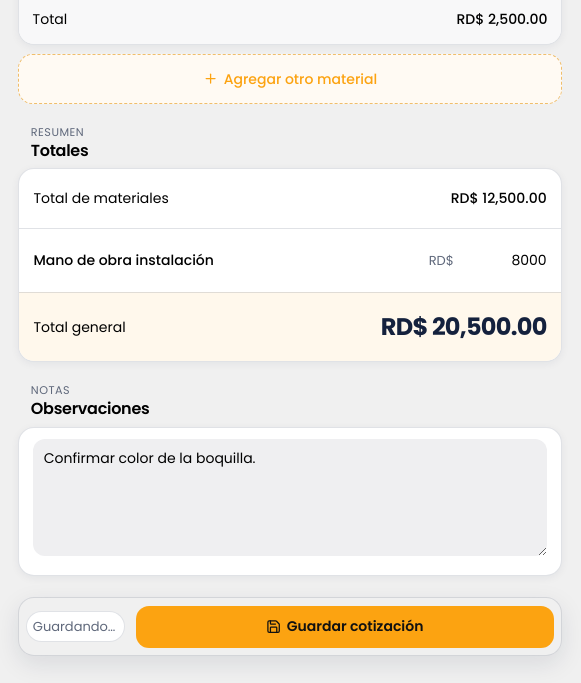
Test: QuotationEditor › preserves a remotely updated phone when the user only edits quotation observations
(page scrolled)
Replace the text in the text box named "Observaciones" with "Solo cambio de observaciones". click: (290, 498)
box: [33,439,547,556]
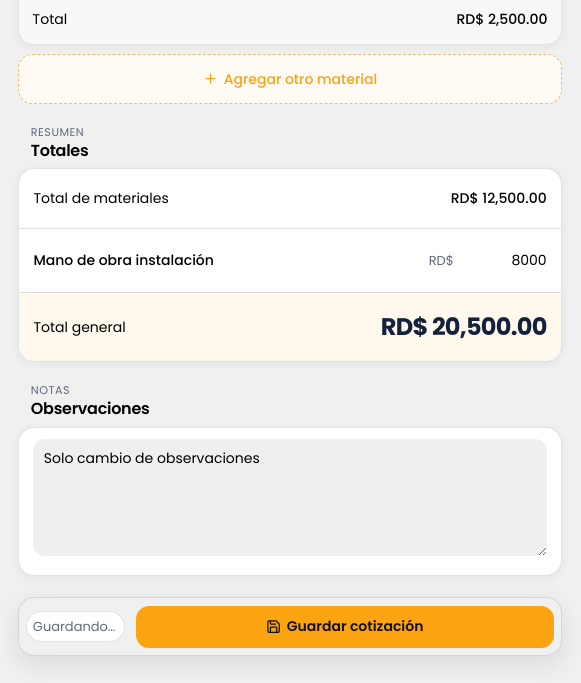
Click the button "Guardar cotización". click: (345, 627)
box: [136,606,554,648]
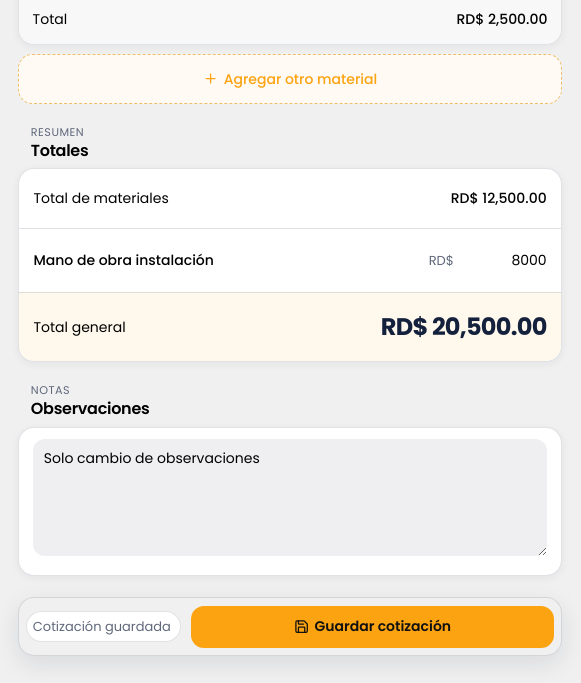
Expected: the text "Cotización guardada" is shown, [26,611,181,642]
